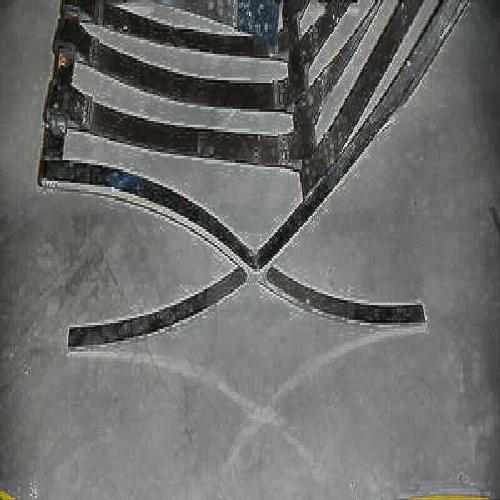chair: (57, 18, 450, 354)
